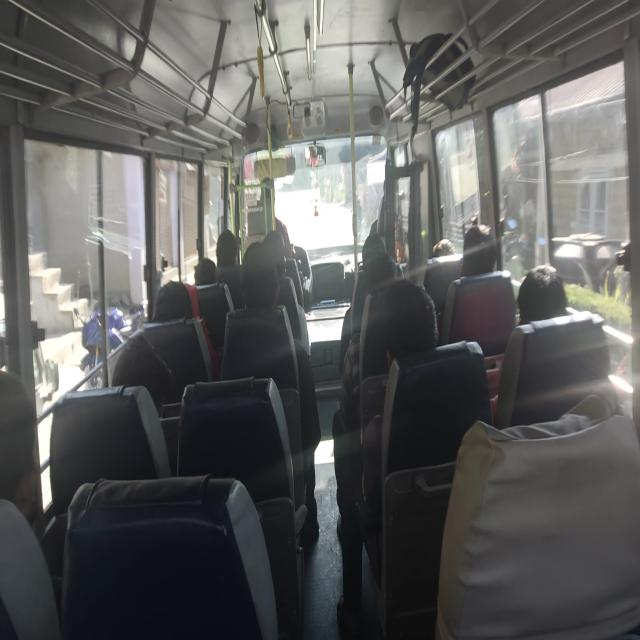person: (334, 278, 439, 636), (221, 239, 321, 542), (496, 264, 613, 427), (262, 229, 310, 356), (111, 331, 174, 417), (516, 263, 569, 325), (215, 229, 242, 309), (215, 229, 239, 267), (194, 258, 216, 285), (432, 238, 456, 257)
